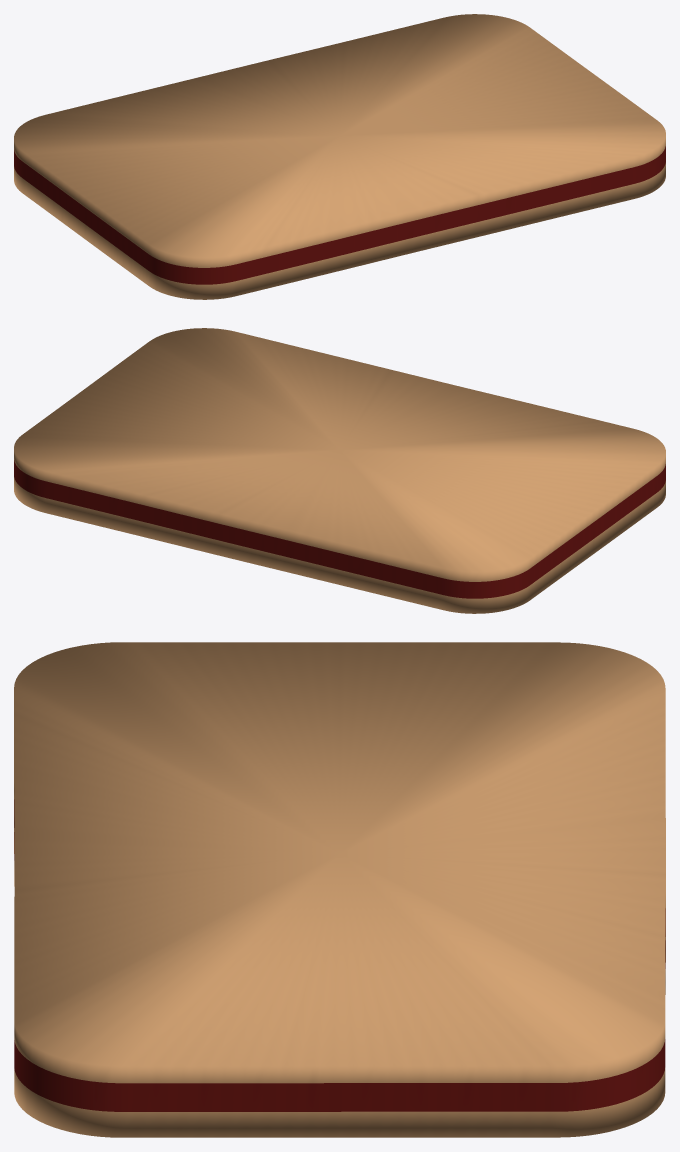
File: cake-foundation-shelf.glb
The picture shows the model from 3 angles, top to bottom: view 1: azimuth 30°, elevation 25°; view 2: azimuth 150°, elevation 25°; view 3: azimuth 270°, elevation 25°; orthographic projection. The views are drawn at different scales.
Parts seen in each view (by area): view 1: Golden sponge foundation top.001, Raspberry jam foundation band.001, Golden sponge foundation foot.001; view 2: Golden sponge foundation top.001, Raspberry jam foundation band.001, Golden sponge foundation foot.001; view 3: Golden sponge foundation top.001, Raspberry jam foundation band.001, Golden sponge foundation foot.001.
Part boxes in pixels (x1,y1,x2,y2): Golden sponge foundation top.001: (14,14,665,267); Raspberry jam foundation band.001: (14,146,665,284); Golden sponge foundation foot.001: (14,163,665,299); Golden sponge foundation top.001: (14,328,665,581); Raspberry jam foundation band.001: (14,460,665,598); Golden sponge foundation foot.001: (14,477,665,613); Golden sponge foundation top.001: (14,642,665,1083); Raspberry jam foundation band.001: (14,799,665,1111); Golden sponge foundation foot.001: (14,828,665,1137).
Size of the model in its own units: 12.68 by 1 by 8.24.
